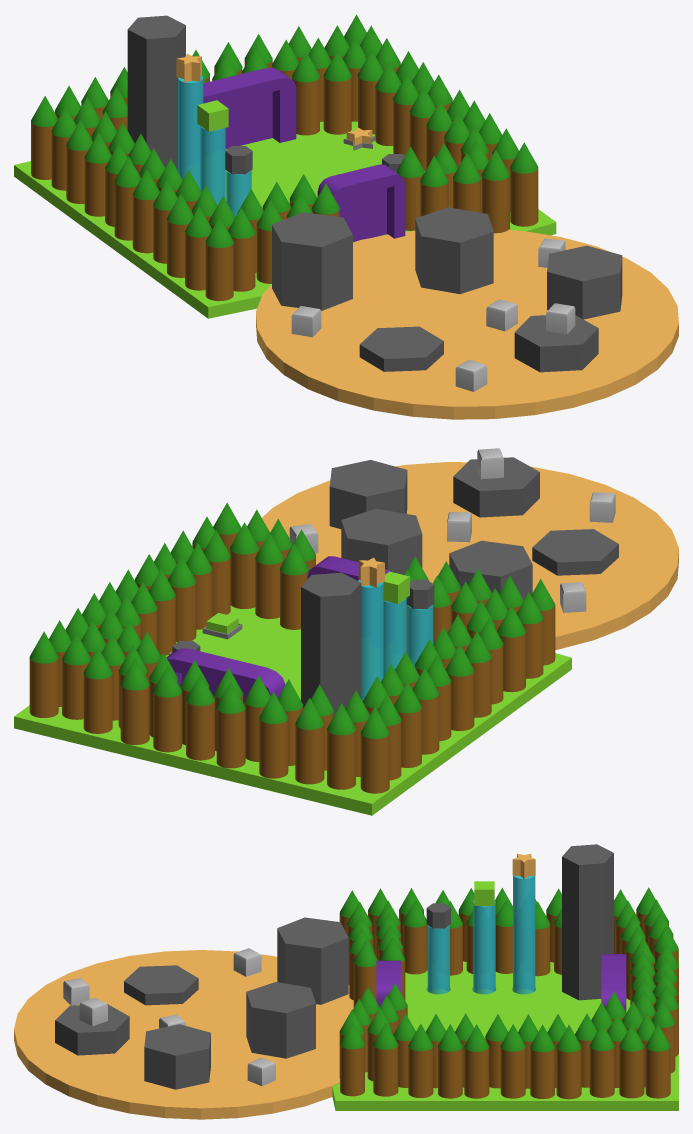
File: Blockout.fbx
The picture shows the model from 3 angles, top to bottom: view 1: azimuth 30°, elevation 25°; view 2: azimuth 150°, elevation 25°; view 3: azimuth 270°, elevation 25°; orthographic projection. The views are drawn at different scales.
Visible parts, largest first — view 1: Circle, Plane, Cylinder.004, Cylinder.005, Cylinder.003, Cylinder.002, Cylinder.001, Cube.001, Cylinder, Cube, Cylinder.006, Plane.003 (+33 smaller); view 2: Circle, Plane, Cylinder.005, Cylinder.003, Cylinder.002, Cylinder.001, Cylinder, Cylinder.004, Cube.001, Cylinder.006, Wood.067, Wood.069 (+55 smaller); view 3: Circle, Plane, Cylinder.005, Cylinder.004, Cylinder.003, Cylinder.002, Cylinder.001, Cylinder.006, Cylinder, Cylinder.008, Cylinder.007, Cube.001 (+27 smaller).
Part boxes in pixels (bbox=[...]): Circle: bbox=[256, 230, 678, 419]; Plane: bbox=[14, 121, 556, 318]; Cylinder.004: bbox=[272, 212, 352, 310]; Cylinder.005: bbox=[127, 15, 185, 170]; Cylinder.003: bbox=[415, 207, 493, 294]; Cylinder.002: bbox=[547, 245, 622, 319]; Cylinder.001: bbox=[514, 315, 598, 372]; Cube.001: bbox=[203, 68, 296, 142]; Cylinder: bbox=[359, 326, 443, 371]; Cube: bbox=[317, 164, 405, 238]; Cylinder.006: bbox=[178, 75, 203, 189]; Plane.003: bbox=[223, 92, 272, 149]; Circle: bbox=[262, 462, 678, 649]; Plane: bbox=[14, 605, 571, 815]; Cylinder.005: bbox=[301, 572, 361, 715]; Cylinder.003: bbox=[341, 508, 422, 574]; Cylinder.002: bbox=[329, 460, 407, 528]; Cylinder.001: bbox=[453, 457, 539, 517]; Cylinder: bbox=[532, 529, 618, 575]; Cylinder.004: bbox=[449, 540, 532, 599]; Cube.001: bbox=[166, 648, 285, 698]; Cylinder.006: bbox=[358, 579, 383, 701]; Wood.067: bbox=[216, 708, 245, 768]; Wood.069: bbox=[153, 691, 182, 752]; Circle: bbox=[14, 950, 353, 1119]; Plane: bbox=[332, 951, 678, 1110]; Cylinder.005: bbox=[562, 844, 613, 1000]; Cylinder.004: bbox=[277, 917, 348, 1004]; Cylinder.003: bbox=[246, 982, 315, 1058]; Cylinder.002: bbox=[144, 1024, 210, 1089]; Cylinder.001: bbox=[55, 1004, 129, 1055]; Cylinder.006: bbox=[513, 875, 535, 994]; Cylinder: bbox=[124, 965, 198, 1005]; Cylinder.008: bbox=[473, 900, 495, 994]; Cylinder.007: bbox=[427, 925, 449, 994]; Cube.001: bbox=[601, 954, 626, 1011].
Size of what is drawn, in the model's own units: 3000 by 1403 by 5322.
